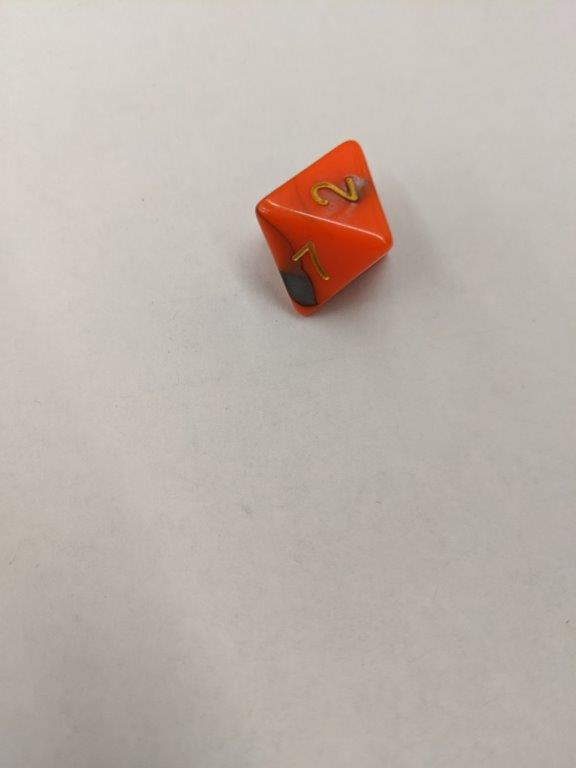d8-2: (253, 139, 396, 315)
